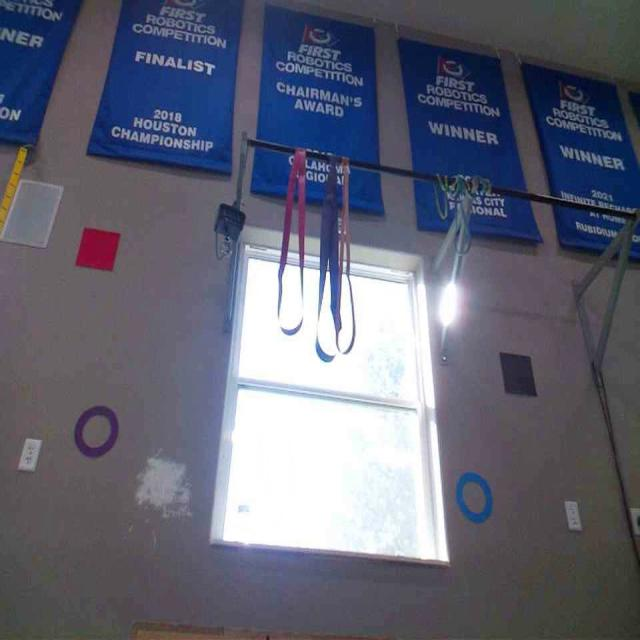ring_blue: (456, 469, 492, 523)
ring_purple: (74, 404, 119, 458)
square_black: (500, 352, 537, 396)
square_red: (75, 225, 121, 271)
